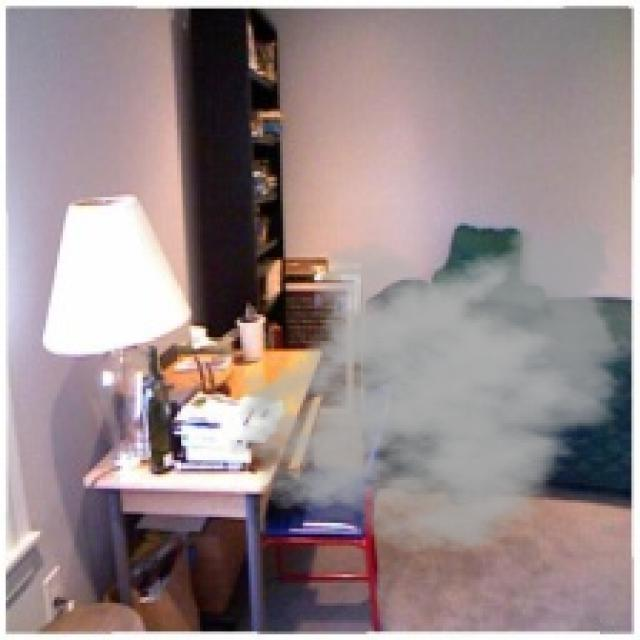smoke: (226, 206, 634, 554)
